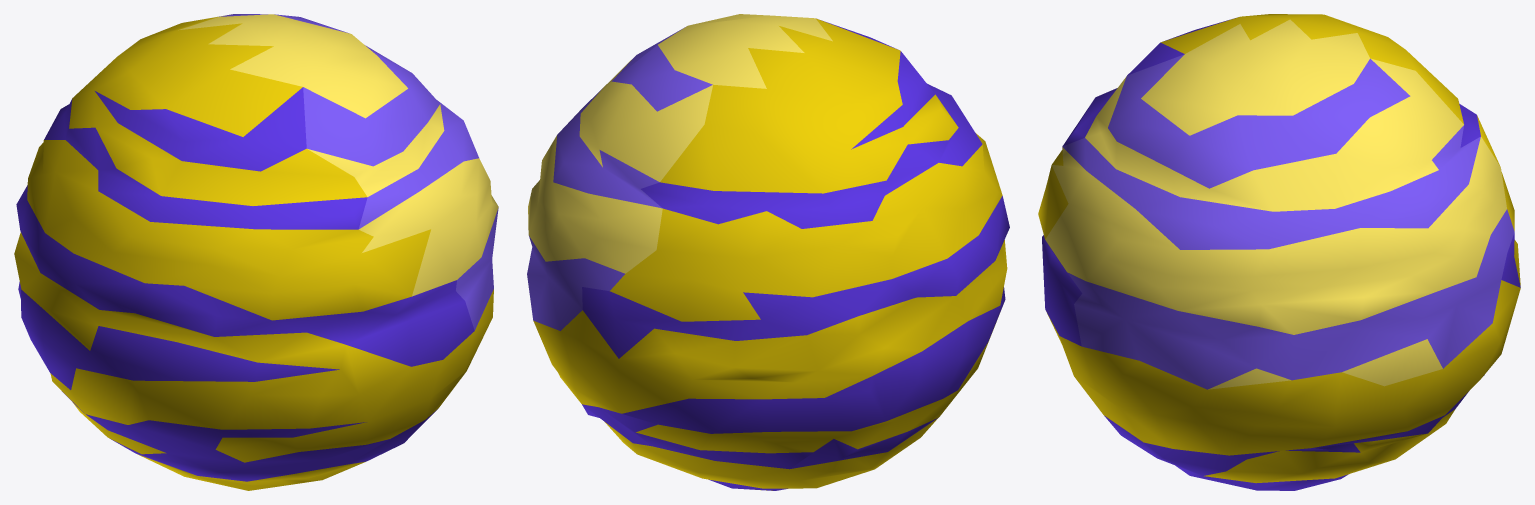
Rendered from Planet_B_001.fbx.
3 views of the same model, side by side, from view 1: azimuth 30°, elevation 25°; view 2: azimuth 150°, elevation 25°; view 3: azimuth 270°, elevation 25° (orthographic).
Parts seen in each view (by area): view 1: cloud:Planet_B_001; view 2: cloud:Planet_B_001; view 3: cloud:Planet_B_001.
Part boxes in pixels (<box>): cloud:Planet_B_001: <box>14,14,498,490</box>; cloud:Planet_B_001: <box>527,14,1009,490</box>; cloud:Planet_B_001: <box>1038,14,1520,490</box>.
Bounding box in the file's own units: 592 × 598 × 601.
